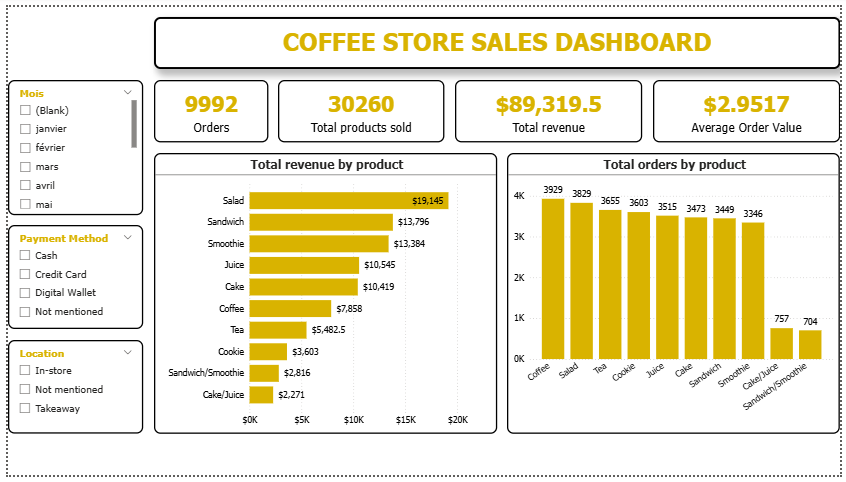

The dashboard page shown, as its layout file describes it:
{"tool":"powerbi","page":{"name":"Page 1","canvas":[1280,720],"ordinal":1},"visuals":[{"type":"textbox","box":[224,16,1056,80],"z":0},{"type":"card","fields":{"Values":["Count(dirty_cafe_sales_all_cleaned.Transaction ID)"]},"box":[224,112,176,96],"z":1000},{"type":"card","fields":{"Values":["Sum(dirty_cafe_sales_all_cleaned.Total Spent)"]},"box":[688,112,288,96],"z":2000},{"type":"card","fields":{"Values":["Sum(dirty_cafe_sales_all_cleaned.Quantity)"]},"box":[416,112,256,96],"z":3000},{"type":"barChart","title":"Total revenue by product","fields":{"Category":["dirty_cafe_sales_all_cleaned.Item"],"Y":["Sum(dirty_cafe_sales_all_cleaned.Total Spent)"]},"box":[224,224,528,432],"z":4000},{"type":"card","fields":{"Values":["dirty_cafe_sales_all_cleaned.Average Order Value"]},"box":[992,112,288,96],"z":5000},{"type":"columnChart","title":"Total orders by product","fields":{"Category":["dirty_cafe_sales_all_cleaned.Item"],"Y":["Sum(dirty_cafe_sales_all_cleaned.Quantity)"]},"box":[768,224,512,432],"z":6000},{"type":"slicer","fields":{"Values":["dirty_cafe_sales_all_cleaned.Payment Method"]},"box":[0,336,208,160],"z":7000},{"type":"slicer","fields":{"Values":["dirty_cafe_sales_all_cleaned.Location"]},"box":[0,512,208,144],"z":8000},{"type":"slicer","fields":{"Values":["dirty_cafe_sales_all_cleaned.Transaction Date.Variation.Hiérarchie de dates.Mois"]},"box":[0,112,208,208],"z":9000}]}

Visuals, with their boxes in screenshot pixels (x1, y1, x2, y2), scaled from the page's 1280x720 canvas onto the 846x482 screenshot:
textbox: [left=148, top=11, right=845, bottom=64]
card - Count(dirty_cafe_sales_all_cleaned.Transaction ID): [left=148, top=75, right=264, bottom=139]
card - Sum(dirty_cafe_sales_all_cleaned.Total Spent): [left=455, top=75, right=645, bottom=139]
card - Sum(dirty_cafe_sales_all_cleaned.Quantity): [left=275, top=75, right=444, bottom=139]
"Total revenue by product" barChart: [left=148, top=150, right=497, bottom=439]
card - dirty_cafe_sales_all_cleaned.Average Order Value: [left=656, top=75, right=845, bottom=139]
"Total orders by product" columnChart: [left=508, top=150, right=845, bottom=439]
slicer - dirty_cafe_sales_all_cleaned.Payment Method: [left=0, top=225, right=137, bottom=332]
slicer - dirty_cafe_sales_all_cleaned.Location: [left=0, top=343, right=137, bottom=439]
slicer - dirty_cafe_sales_all_cleaned.Transaction Date.Variation.Hiérarchie de dates.Mois: [left=0, top=75, right=137, bottom=214]
